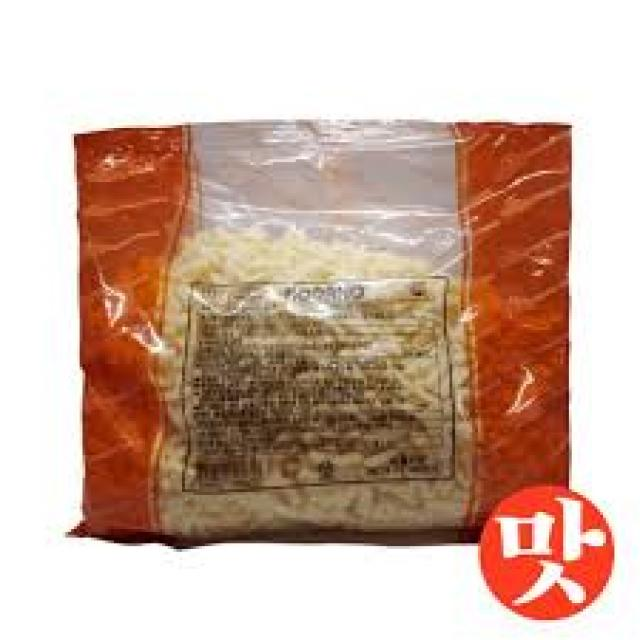cheese: (85, 136, 529, 524)
